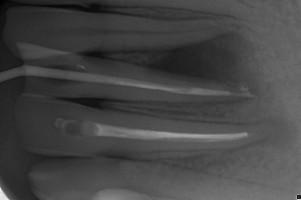Furcation Involvement: (144, 32, 267, 94), (254, 115, 300, 150)
